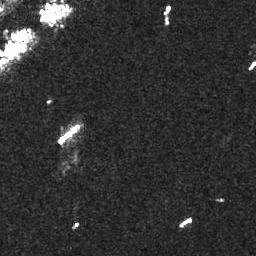ship: (56, 121, 82, 145), (178, 214, 193, 230), (248, 59, 256, 71), (163, 5, 171, 16), (72, 220, 79, 230), (44, 98, 54, 104)
